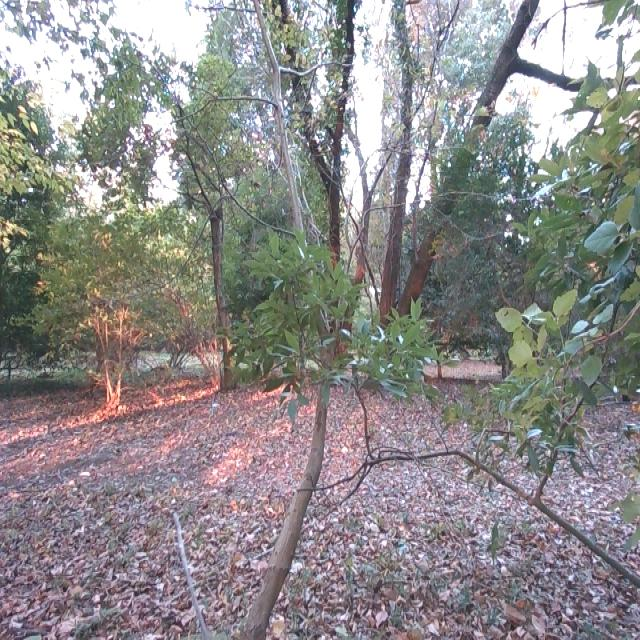bush: (503, 76, 640, 449)
tree: (372, 0, 529, 381), (228, 280, 344, 640), (295, 0, 349, 360), (188, 94, 230, 383), (95, 215, 128, 421)
